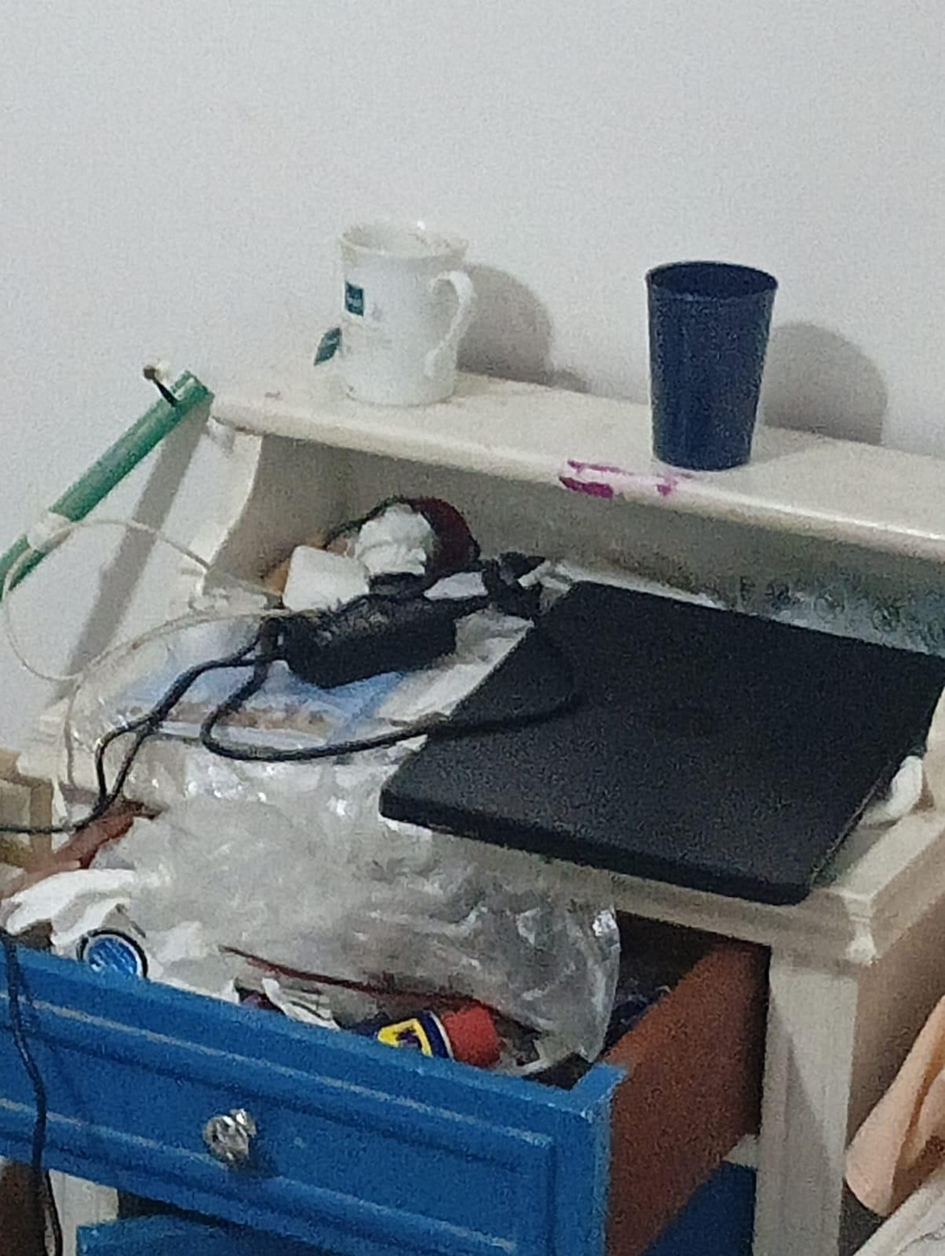cup: (646, 261, 776, 469), (340, 225, 474, 405)
